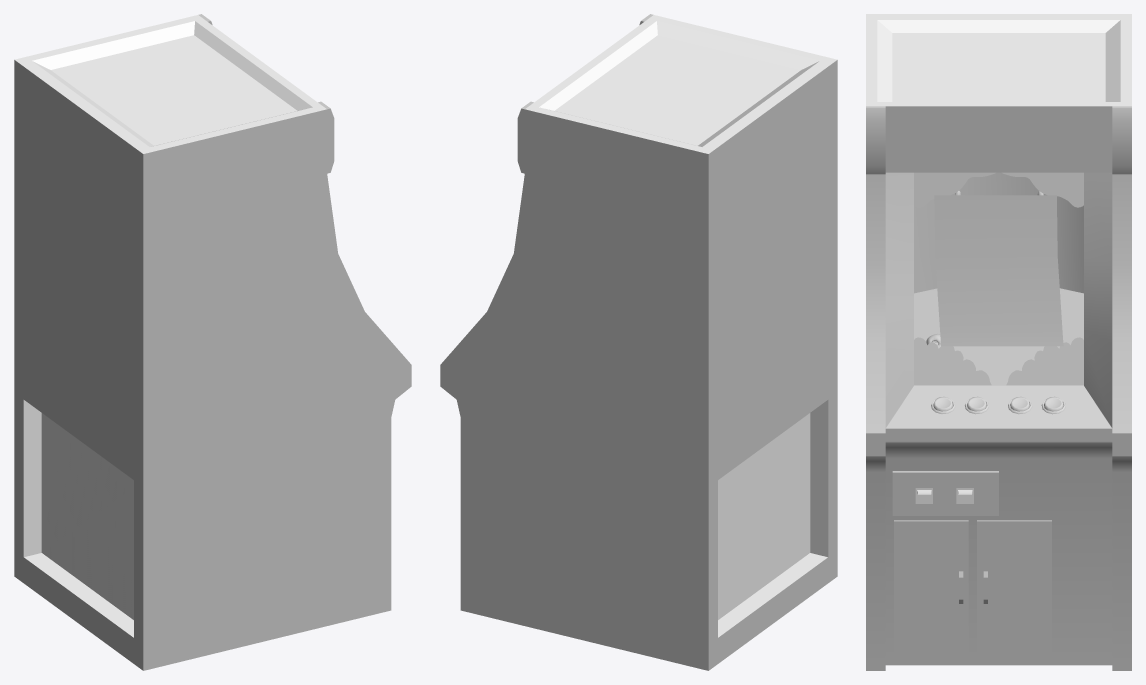
The model's file is Arcade SCB.glb.
The picture shows the model from 3 angles, left to right: view 1: azimuth 30°, elevation 25°; view 2: azimuth 150°, elevation 25°; view 3: azimuth 270°, elevation 25°; orthographic projection. The views are drawn at different scales.
Visible parts, largest first — view 1: Cube.041; view 2: Cube.041; view 3: Cube.041, Cube.033.
Part boxes in pixels (<box>): Cube.041: <box>14,14,411,670</box>; Cube.041: <box>440,14,837,670</box>; Cube.041: <box>866,14,1131,670</box>; Cube.033: <box>914,172,1083,385</box>.
Bounding box in the file's own units: 0.8688 × 1.6 × 0.7239.
4 materials, 1 textured.
